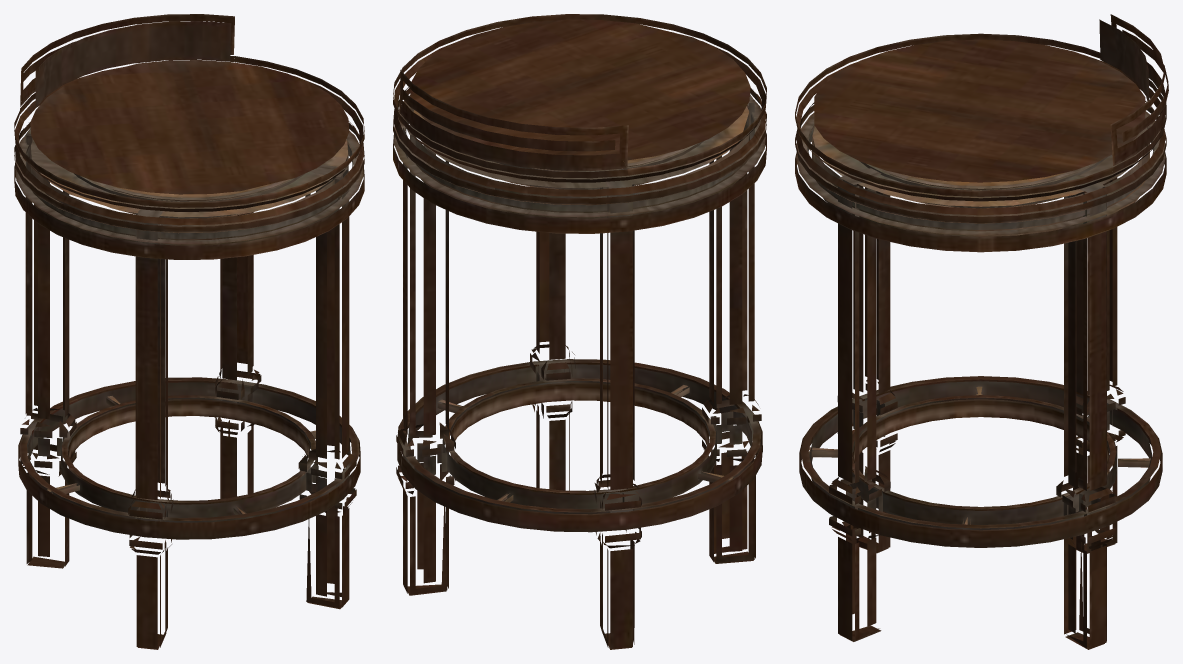
File: cafe_barstool.glb
3 views of the same model, side by side, from view 1: azimuth 30°, elevation 25°; view 2: azimuth 150°, elevation 25°; view 3: azimuth 270°, elevation 25° (orthographic). The views are drawn at different scales.
Visible parts, largest first — view 1: bar_chair_round_01; view 2: bar_chair_round_01; view 3: bar_chair_round_01.
Part boxes in pixels (<box>): bar_chair_round_01: <box>14,14,364,649</box>; bar_chair_round_01: <box>393,14,766,649</box>; bar_chair_round_01: <box>795,14,1168,649</box>.
Bounding box in the file's own units: 0.4832 × 0.7493 × 0.486.
Materials: 1 (1 with a texture image).
